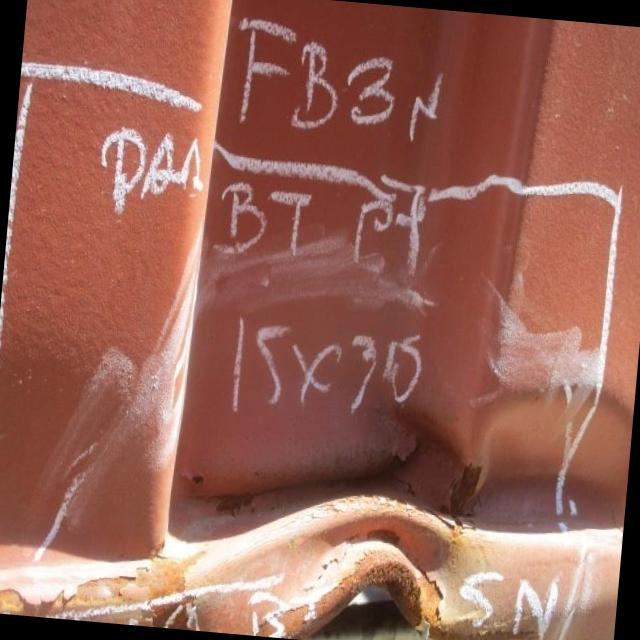Major Dent: (0, 308, 634, 588)
